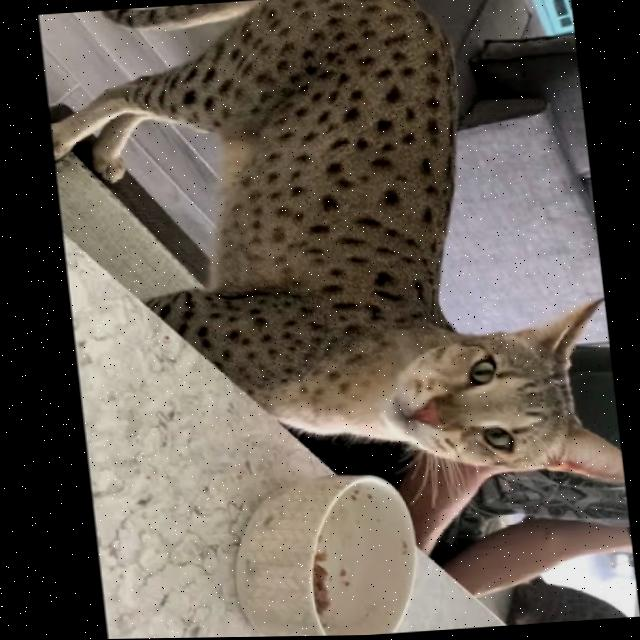Savannah: (40, 0, 620, 521)
